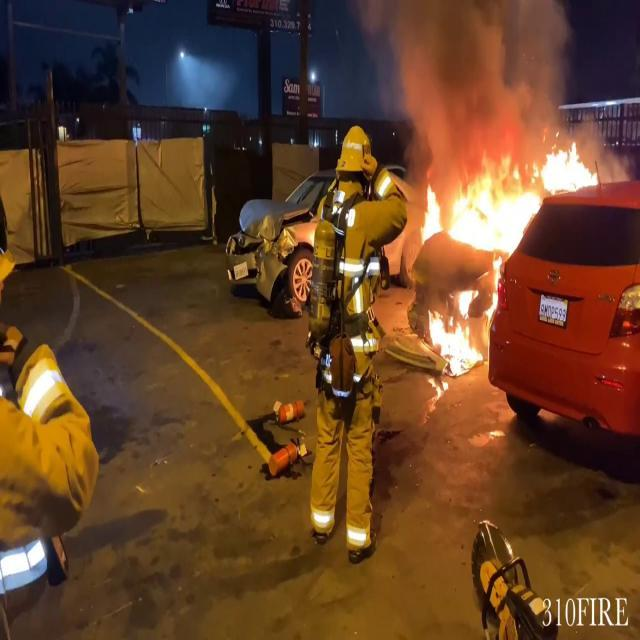Fire: (414, 132, 608, 261), (423, 303, 484, 378)
Smoke: (374, 0, 582, 155)
